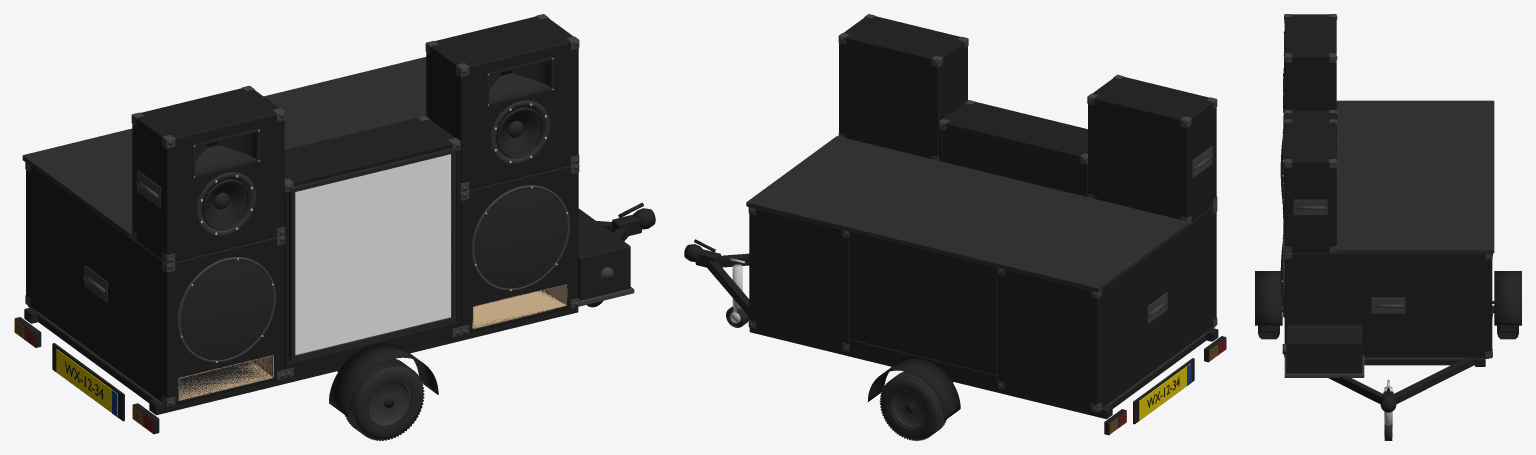
Rendered from speaker_trailer_80.glb.
The picture shows the model from 3 angles, left to right: view 1: azimuth 30°, elevation 25°; view 2: azimuth 150°, elevation 25°; view 3: azimuth 270°, elevation 25°; orthographic projection. The views are drawn at different scales.
Parts seen in each view (by area): view 1: L_sub, panel_front_glass, panel_front_film, L_top, R_top, desk_top, L_sub_grille, R_sub_grille, R_sub, C_top_plate, fog_machine, tyre (+23 smaller); view 2: desk_top, L_sub, C_rear, L_top, R_top, R_sub, C_back, C_top_plate, tyre.001, mudguard.001, chassis_rail.001, C_plinth (+4 smaller); view 3: desk_top, R_sub, R_top, L_top, fog_machine, mudguard.001, mudguard, drawbar.001, chassis_cross.002, drawbar, R_top_handle_out_dish, R_sub_handle_out_dish (+2 smaller).
Boxes of the visible parts, x1=… form: L_sub: x1=26, y1=166, x2=284, y2=404; panel_front_glass: x1=295, y1=154, x2=451, y2=354; panel_front_film: x1=295, y1=154, x2=450, y2=354; L_top: x1=132, y1=88, x2=284, y2=261; R_top: x1=426, y1=16, x2=578, y2=189; desk_top: x1=22, y1=57, x2=426, y2=238; L_sub_grille: x1=180, y1=260, x2=273, y2=360; R_sub_grille: x1=474, y1=188, x2=567, y2=288; R_sub: x1=460, y1=165, x2=578, y2=332; C_top_plate: x1=284, y1=117, x2=454, y2=185; fog_machine: x1=578, y1=209, x2=630, y2=300; tyre: x1=348, y1=360, x2=423, y2=439; desk_top: x1=746, y1=136, x2=1188, y2=291; L_sub: x1=998, y1=207, x2=1216, y2=409; C_rear: x1=849, y1=231, x2=997, y2=374; L_top: x1=1088, y1=77, x2=1216, y2=221; R_top: x1=839, y1=16, x2=967, y2=158; R_sub: x1=749, y1=209, x2=849, y2=349; C_back: x1=942, y1=127, x2=1083, y2=195; C_top_plate: x1=943, y1=102, x2=1087, y2=159; tyre.001: x1=880, y1=373, x2=943, y2=439; mudguard.001: x1=867, y1=358, x2=960, y2=420; chassis_rail.001: x1=749, y1=328, x2=1112, y2=419; C_plinth: x1=849, y1=339, x2=997, y2=387; desk_top: x1=1336, y1=100, x2=1494, y2=253; R_sub: x1=1284, y1=252, x2=1492, y2=357; R_top: x1=1284, y1=120, x2=1336, y2=252; L_top: x1=1284, y1=14, x2=1336, y2=109; fog_machine: x1=1286, y1=324, x2=1362, y2=373; mudguard.001: x1=1494, y1=271, x2=1521, y2=325; mudguard: x1=1255, y1=271, x2=1282, y2=325; drawbar.001: x1=1393, y1=357, x2=1473, y2=404; chassis_cross.002: x1=1364, y1=359, x2=1474, y2=365; drawbar: x1=1328, y1=376, x2=1383, y2=404; R_top_handle_out_dish: x1=1293, y1=199, x2=1327, y2=215; R_sub_handle_out_dish: x1=1371, y1=297, x2=1405, y2=313.
Size of the model in its own units: 2.79 by 1.59 by 1.54.
